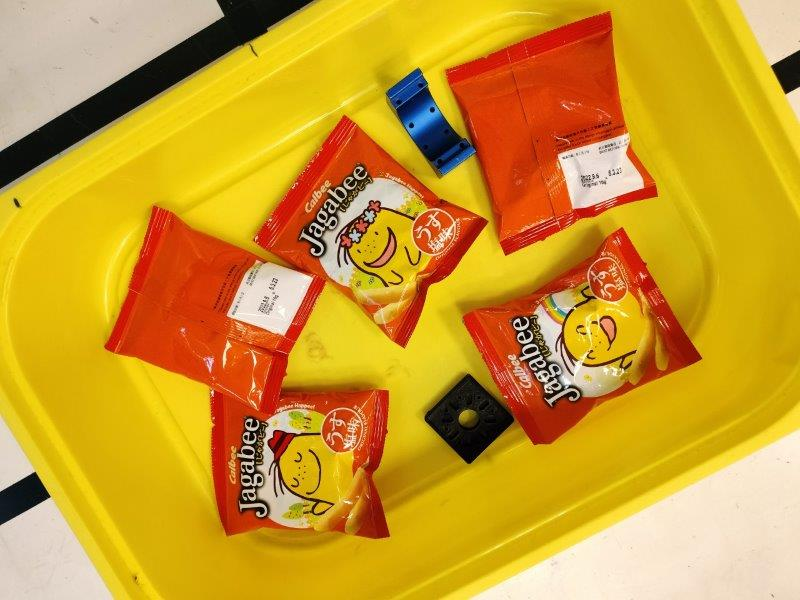Jagabee: (258, 118, 489, 347), (463, 230, 704, 444), (446, 12, 658, 255), (104, 206, 324, 414), (211, 388, 391, 541)
